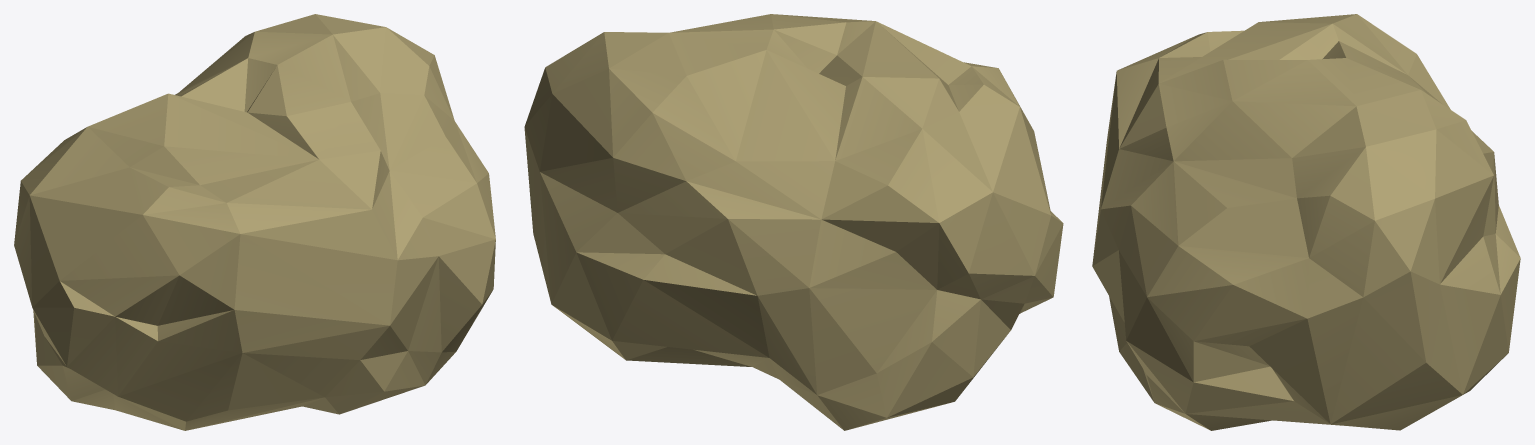
The model's file is SM_rock_20.fbx.
3 renders of one model, left to right at view 1: azimuth 30°, elevation 25°; view 2: azimuth 150°, elevation 25°; view 3: azimuth 270°, elevation 25°, orthographic. The views are drawn at different scales.
Visible parts, largest first — view 1: rock_20; view 2: rock_20; view 3: rock_20.
Part boxes in pixels (left/top/right/bottom): rock_20: left=14, top=14, right=495, bottom=430; rock_20: left=524, top=14, right=1063, bottom=430; rock_20: left=1092, top=14, right=1520, bottom=430.
Size of the model in its own units: 292 by 197 by 227.
